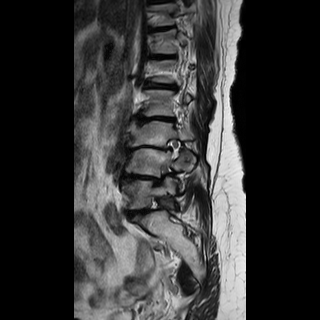RFS0: (155, 130, 188, 165)
